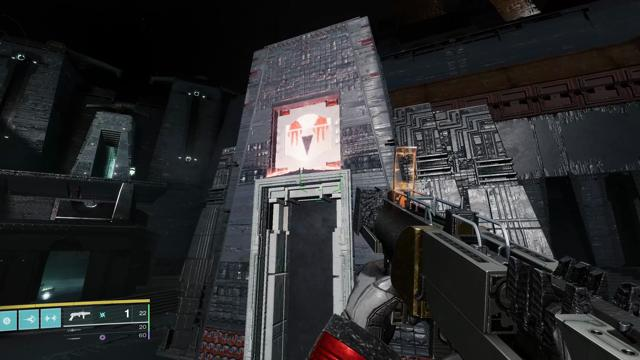give: (285, 114, 331, 160)
